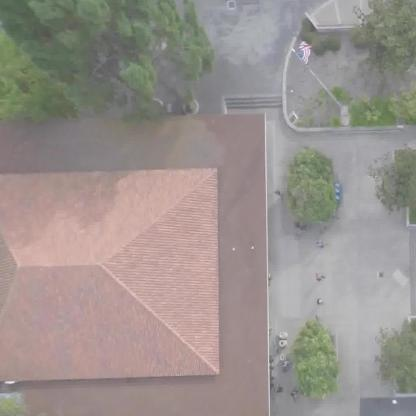Pedestrian: (287, 386, 308, 407), (314, 293, 328, 313), (270, 185, 284, 204), (316, 238, 330, 254), (313, 265, 322, 282)
